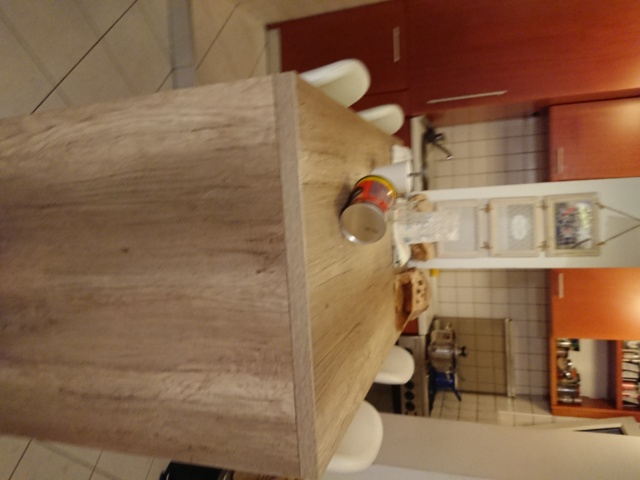Nescafe Classic 225g: (336, 173, 400, 247)
